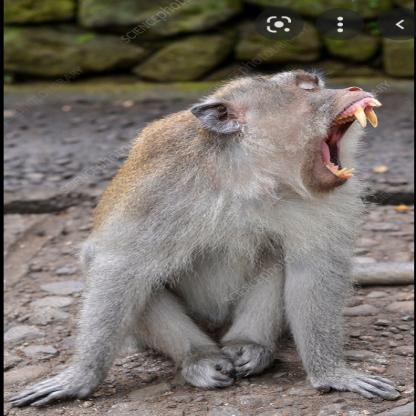monkey: (16, 67, 404, 408)
